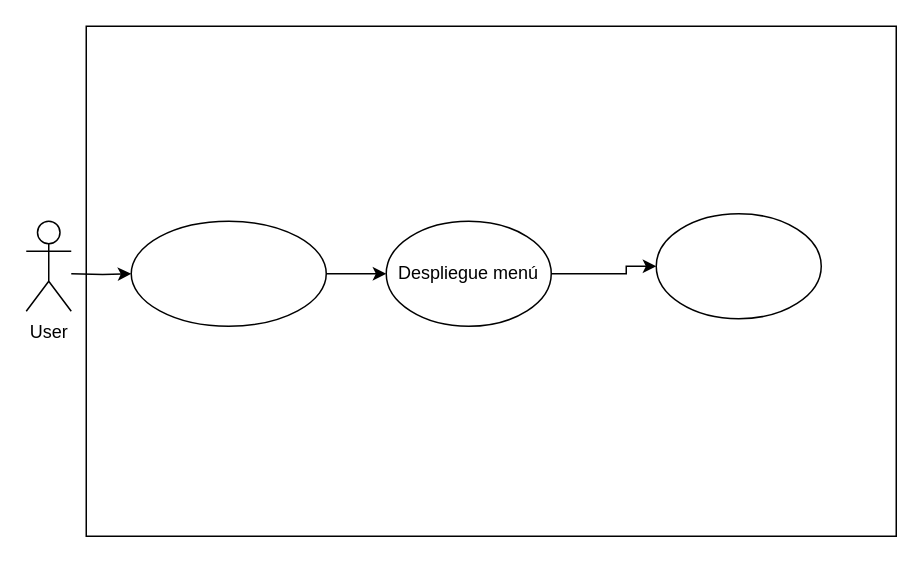
Some shapes in this 923 by 563 pixel diagram are drawn without their labels. Each missing label, with the box of its shape:
Iniciar sesión: (130, 220, 326, 326)
Visualizar diagramas generales: (655, 212, 821, 319)
